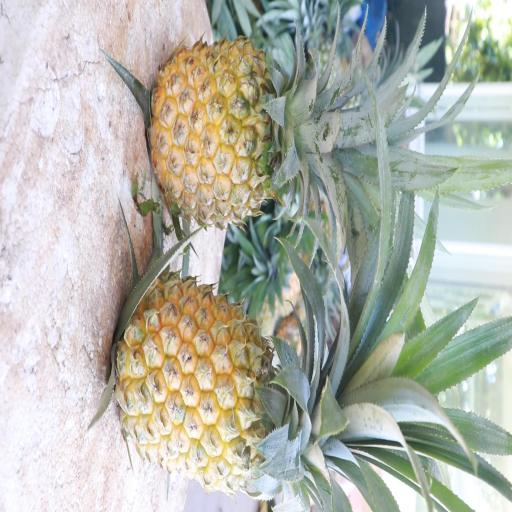Pineapple - v8 v1: (112, 277, 370, 494), (146, 35, 352, 234)
